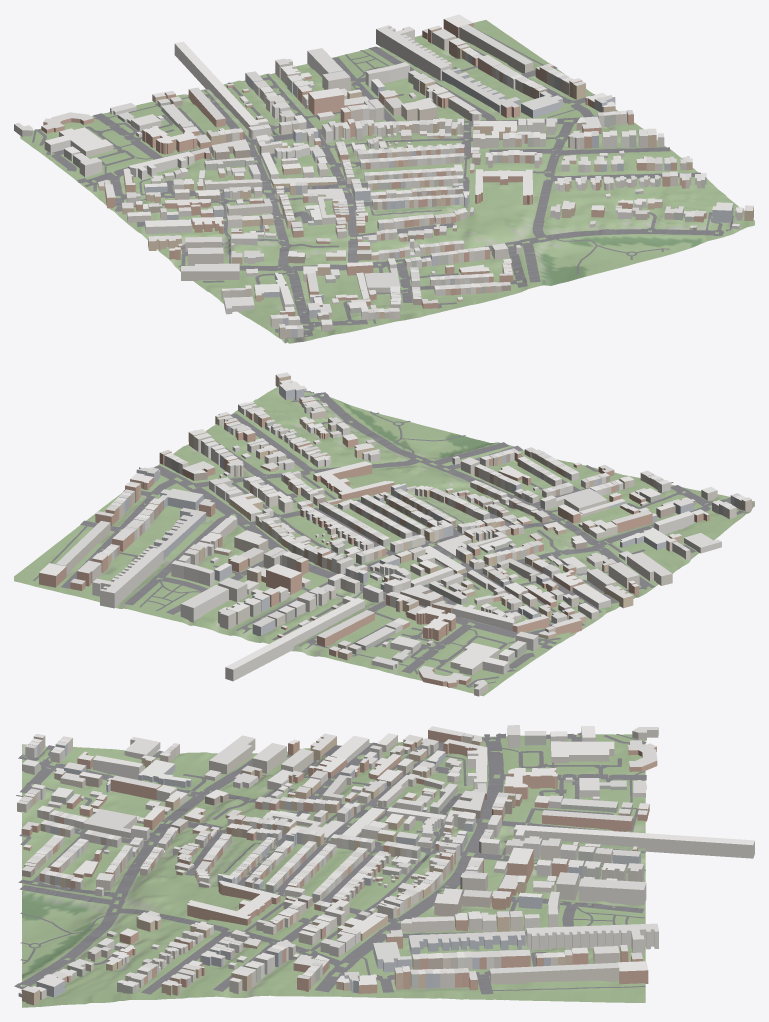
3 renders of one model, top to bottom at view 1: azimuth 30°, elevation 25°; view 2: azimuth 150°, elevation 25°; view 3: azimuth 270°, elevation 25°, orthographic. The views are drawn at different scales.
Visible parts, largest first — view 1: prim1, prim0, prim2; view 2: prim1, prim0, prim2; view 3: prim1, prim0, prim2.
Part boxes in pixels (<box>): prim1: <box>14,14,753,338</box>; prim0: <box>20,20,754,343</box>; prim2: <box>32,28,733,336</box>; prim1: <box>39,372,751,696</box>; prim0: <box>14,386,754,696</box>; prim2: <box>33,391,744,687</box>; prim1: <box>17,725,754,1005</box>; prim0: <box>22,734,645,1007</box>; prim2: <box>14,732,646,994</box>.
Bounding box in the file's own units: 533 × 41.92 × 608.
